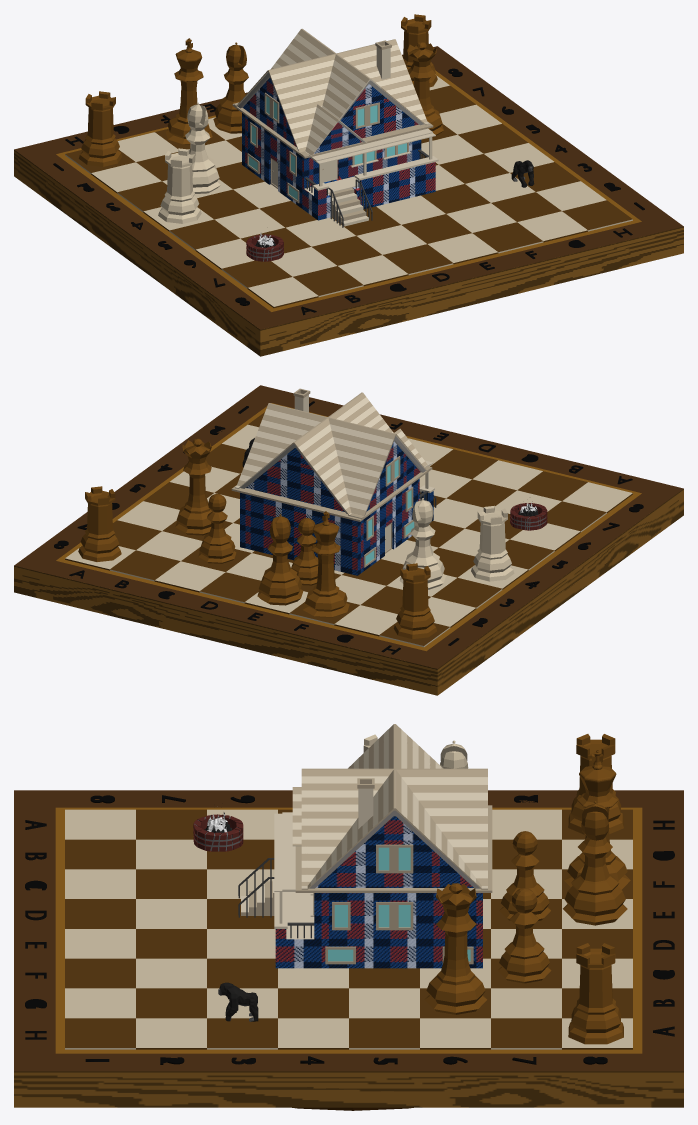
3 renders of one model, top to bottom at view 1: azimuth 30°, elevation 25°; view 2: azimuth 150°, elevation 25°; view 3: azimuth 270°, elevation 25°, orthographic. The views are drawn at different scales.
Visible parts, largest first — view 1: Cube.002, Cube.171, OBJRANDOM_CAMPFIRE; view 2: Cube.002, Cube.171, OBJRANDOM_CAMPFIRE; view 3: Cube.002, Cube.171, OBJRANDOM_CAMPFIRE, ANIMAL_GORILA.
Part boxes in pixels (x1=…): Cube.002: x1=14, y1=14, x2=683, y2=356; Cube.171: x1=232, y1=28, x2=438, y2=227; OBJRANDOM_CAMPFIRE: x1=246, y1=232, x2=283, y2=261; Cube.002: x1=14, y1=385, x2=683, y2=695; Cube.171: x1=231, y1=388, x2=436, y2=575; OBJRANDOM_CAMPFIRE: x1=510, y1=501, x2=547, y2=530; Cube.002: x1=14, y1=734, x2=683, y2=1107; Cube.171: x1=238, y1=724, x2=492, y2=968; OBJRANDOM_CAMPFIRE: x1=193, y1=806, x2=243, y2=851; ANIMAL_GORILA: x1=218, y1=982, x2=258, y2=1021.
Size of the model in its own units: 3981 by 1551 by 4012.
26 materials, 3 textured.
